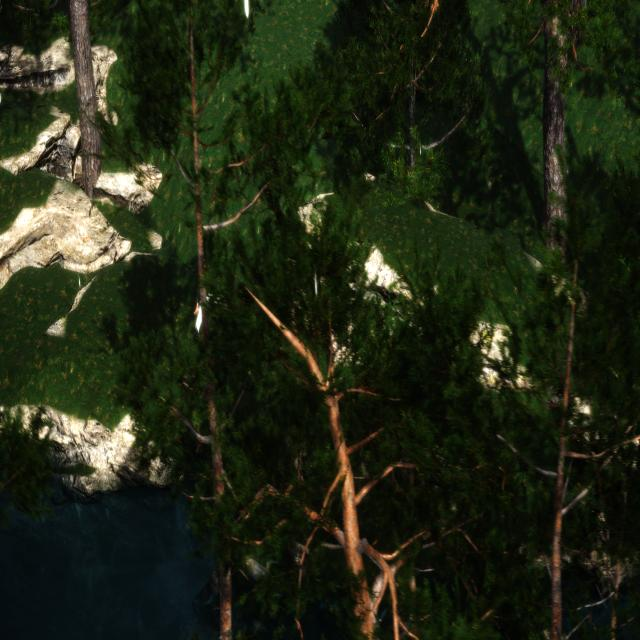Human: (194, 280, 232, 340)
